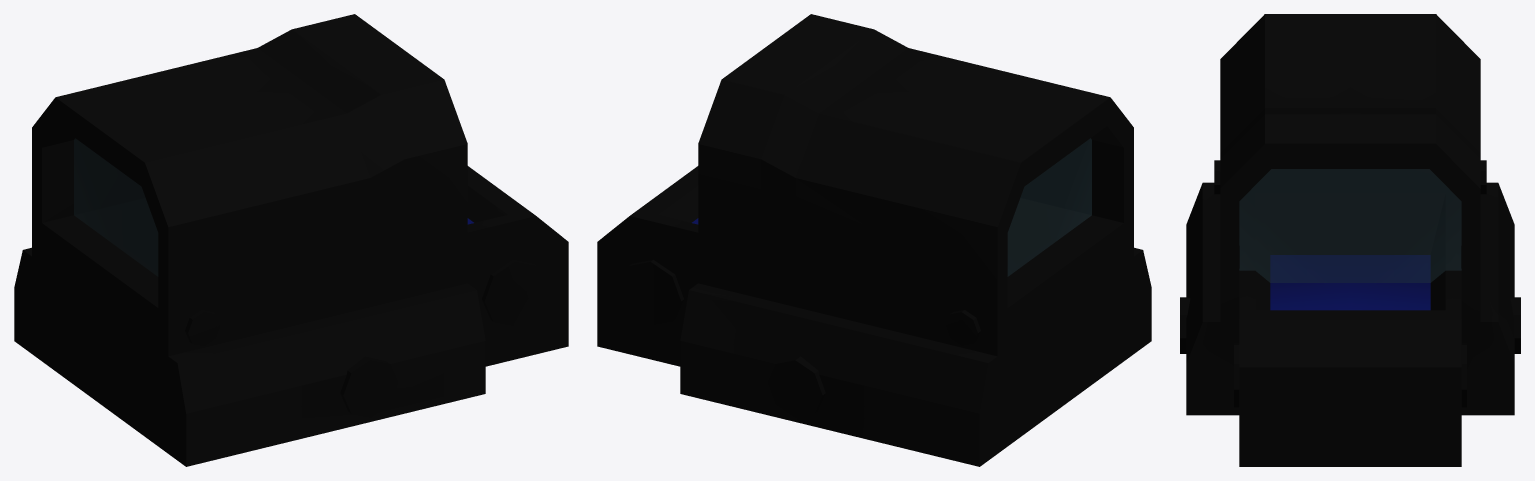
Rendered from k-att-reflex-west.glb.
3 views of the same model, side by side, from view 1: azimuth 30°, elevation 25°; view 2: azimuth 150°, elevation 25°; view 3: azimuth 270°, elevation 25° (orthographic). The views are drawn at different scales.
Parts seen in each view (by area): view 1: kit (×2), lens; view 2: kit (×2), lens; view 3: kit (×3), lens.
Part boxes in pixels (x1,y1,x2,y2): kit (×2): (14,14,568,466); lens: (74,138,158,276); kit (×2): (597,14,1151,466); lens: (1007,138,1091,276); kit (×3): (1180,14,1520,466); lens: (1239,169,1461,282).
Bounding box in the file's own units: 0.0654 × 0.0433 × 0.0492.
